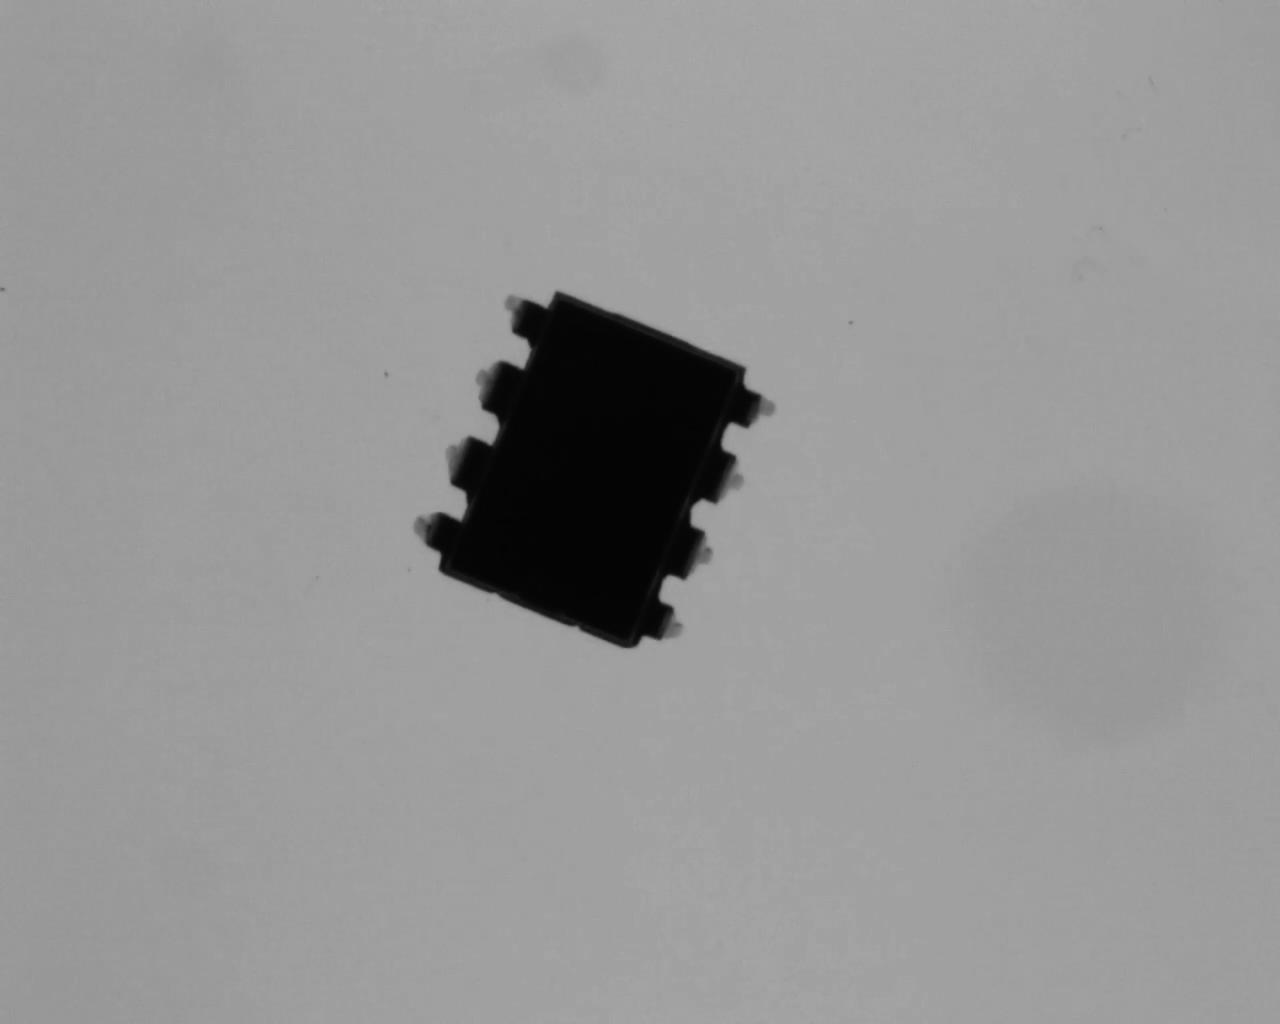Leg: (633, 586, 692, 651), (665, 514, 719, 583), (698, 439, 750, 506), (463, 358, 525, 414), (726, 380, 782, 439), (427, 433, 490, 483), (504, 292, 553, 350), (403, 501, 459, 550)
